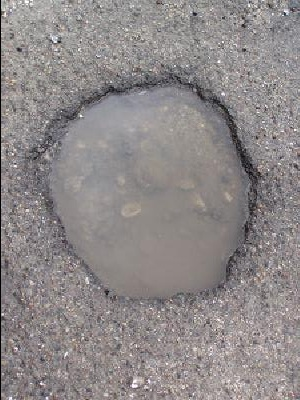pothole: (29, 73, 262, 307)
